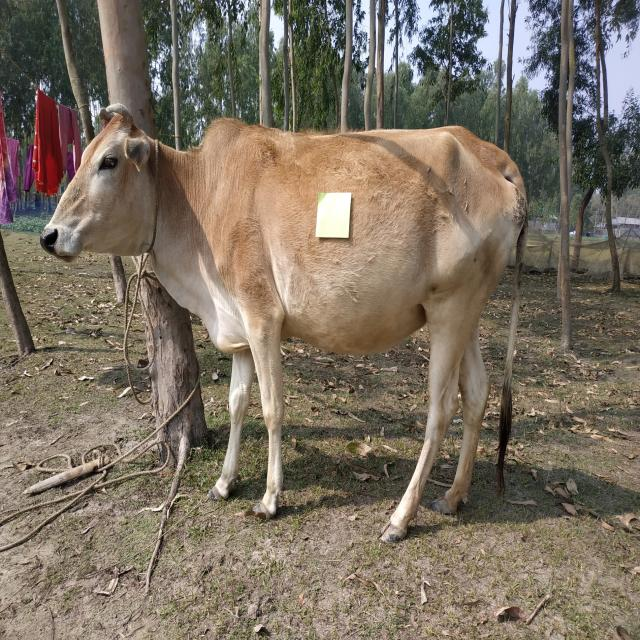badan_sapi: (238, 136, 488, 345)
sapi: (33, 98, 534, 552)
